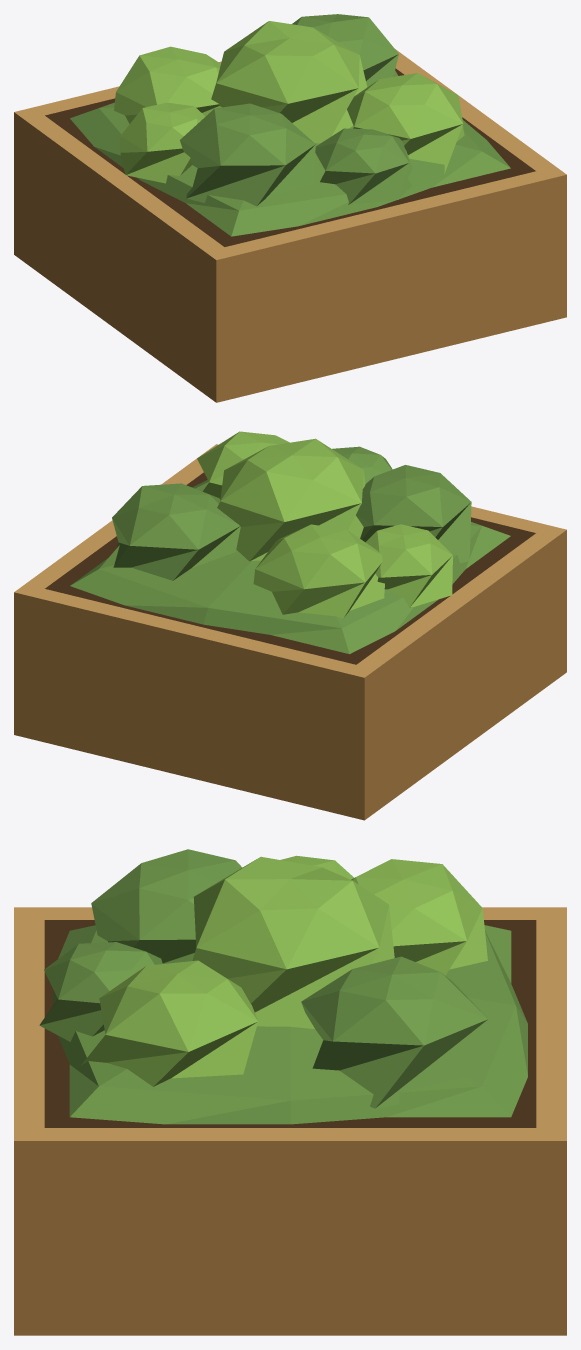
File: item_produce_hops_a.obj
3 views of the same model, one above another, from view 1: azimuth 30°, elevation 25°; view 2: azimuth 150°, elevation 25°; view 3: azimuth 270°, elevation 25° (orthographic). The views are drawn at different scales.
Size of the model in its own units: 0.5724 by 0.3874 by 0.5724.
